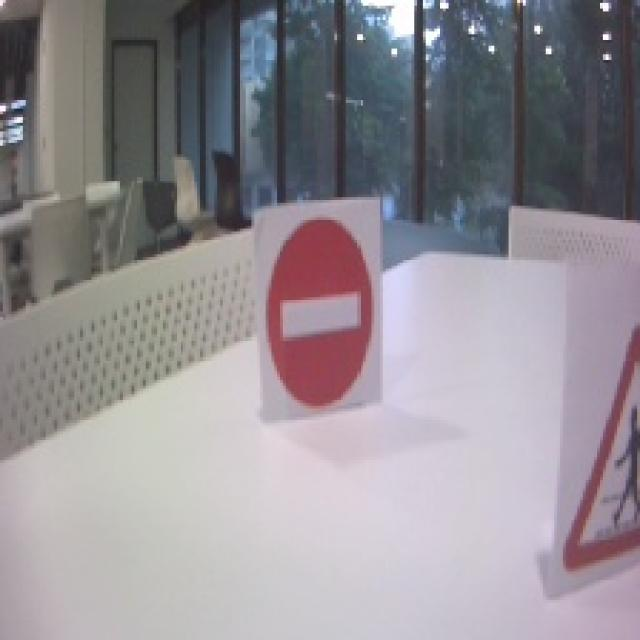DoNotEnterSign: (265, 216, 374, 410)
